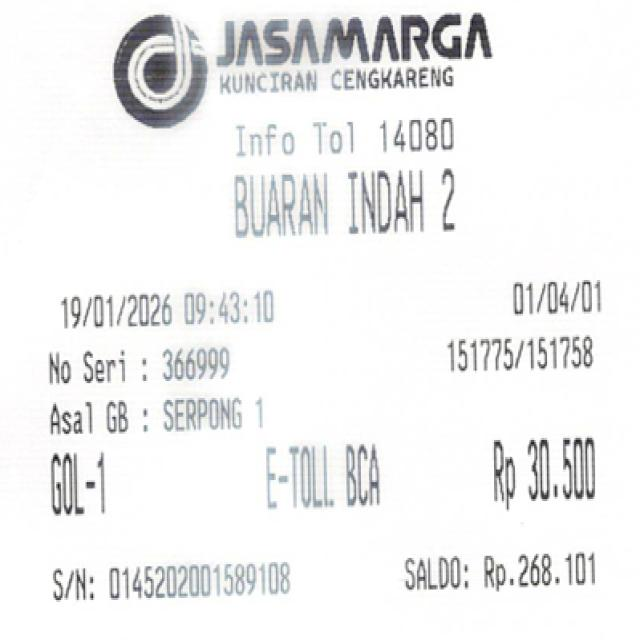date: (42, 282, 276, 328)
store: (225, 15, 495, 96)
total: (486, 427, 610, 512)
